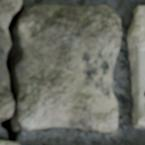brick: (127, 6, 144, 128), (0, 141, 18, 144)
broken_brick: (15, 3, 122, 136), (0, 0, 22, 119)
crack: (0, 2, 30, 142), (66, 5, 73, 8)
